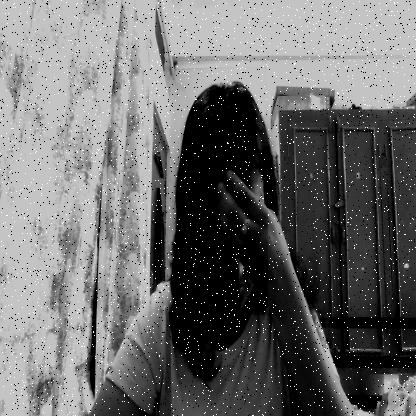Distracted: (196, 153, 268, 315)
